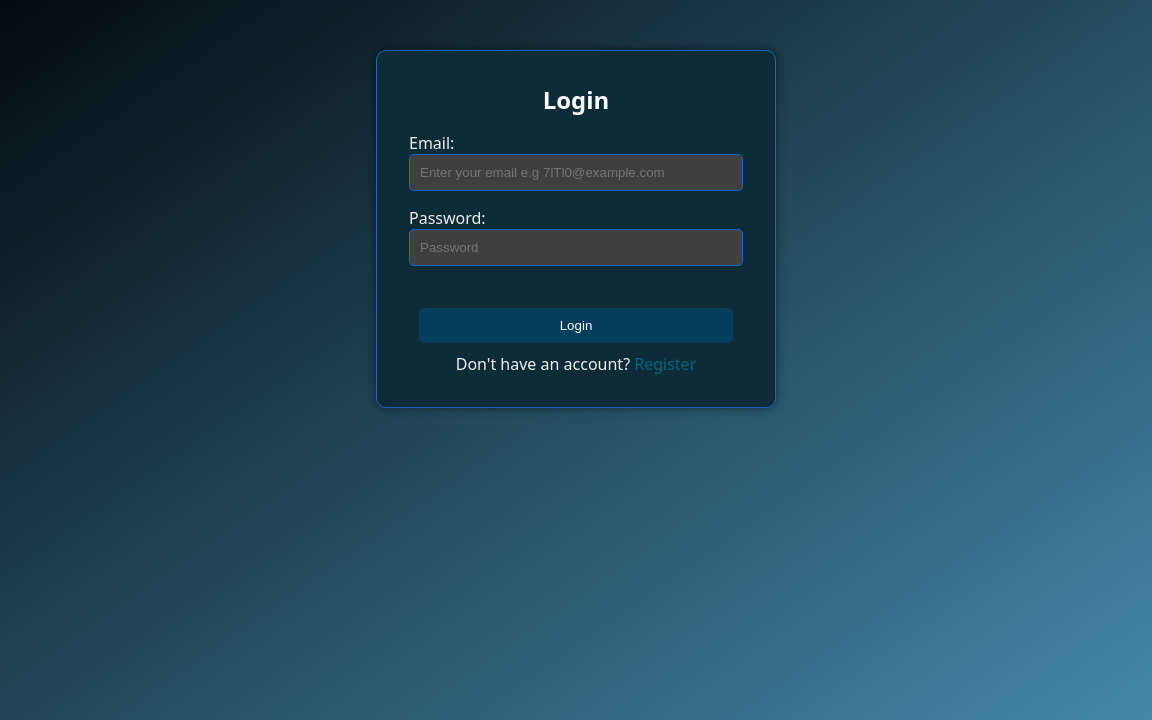
Login Page Validation › shows error if fields are empty
This screenshot has width=1152, height=720.
Step 1. Click the button "Login" → (576,326), box [419,308,733,343]
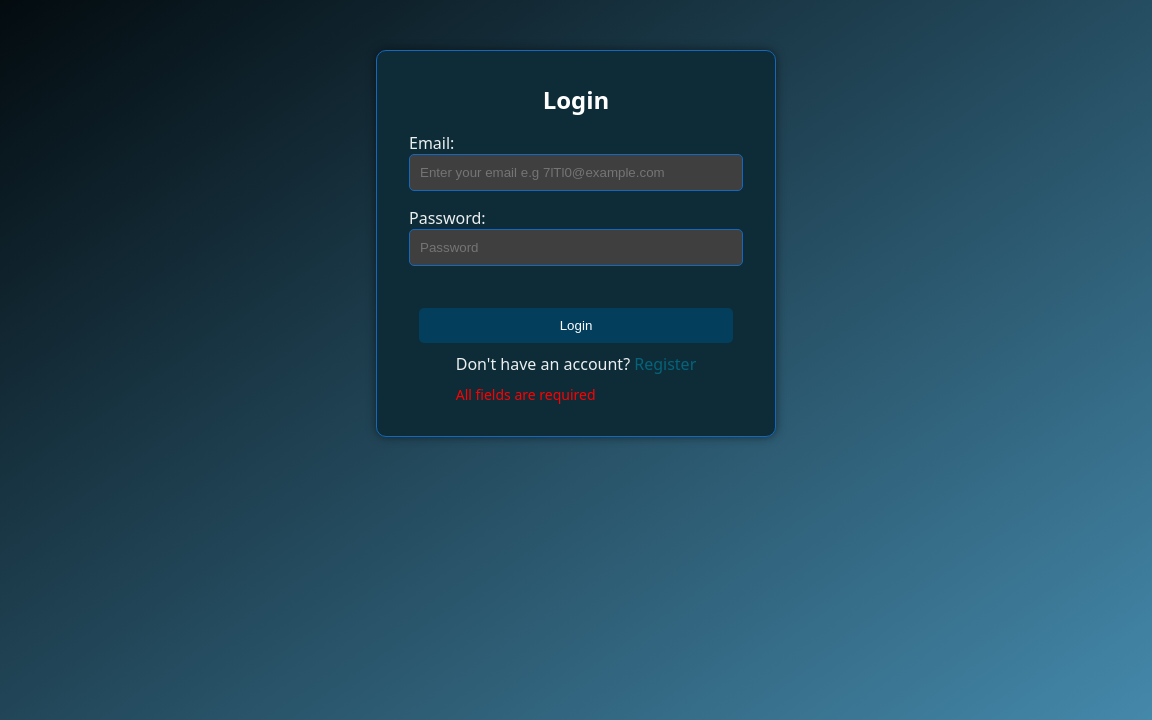
expect the text "All fields are required" is shown: met, box [456,385,596,404]
